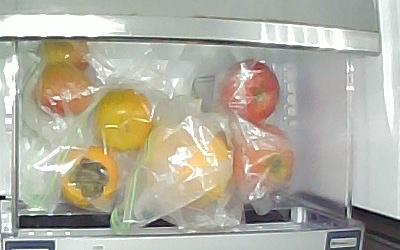apple_vinyl: (228, 123, 295, 196), (216, 59, 279, 124)
grapefruit_vinyl: (153, 129, 229, 207)
persimmon_vinyl: (92, 88, 155, 150), (61, 147, 119, 207)
prune_vinyl: (34, 61, 98, 118), (35, 40, 88, 70)
